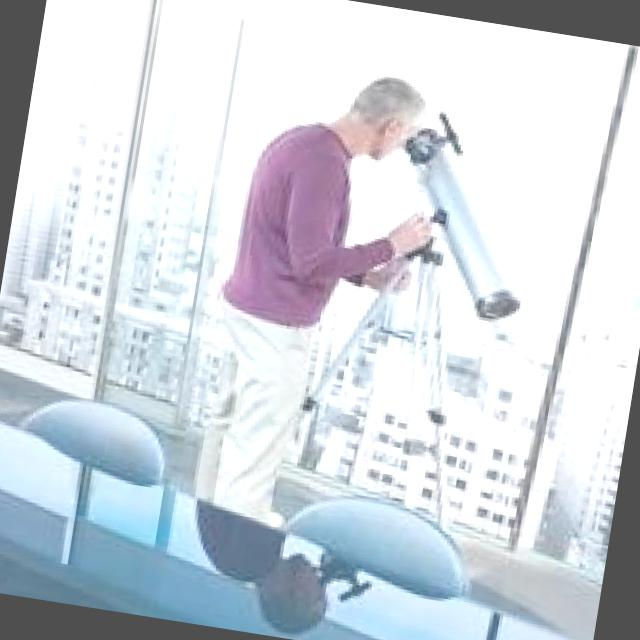no_vest: (214, 103, 385, 334)
